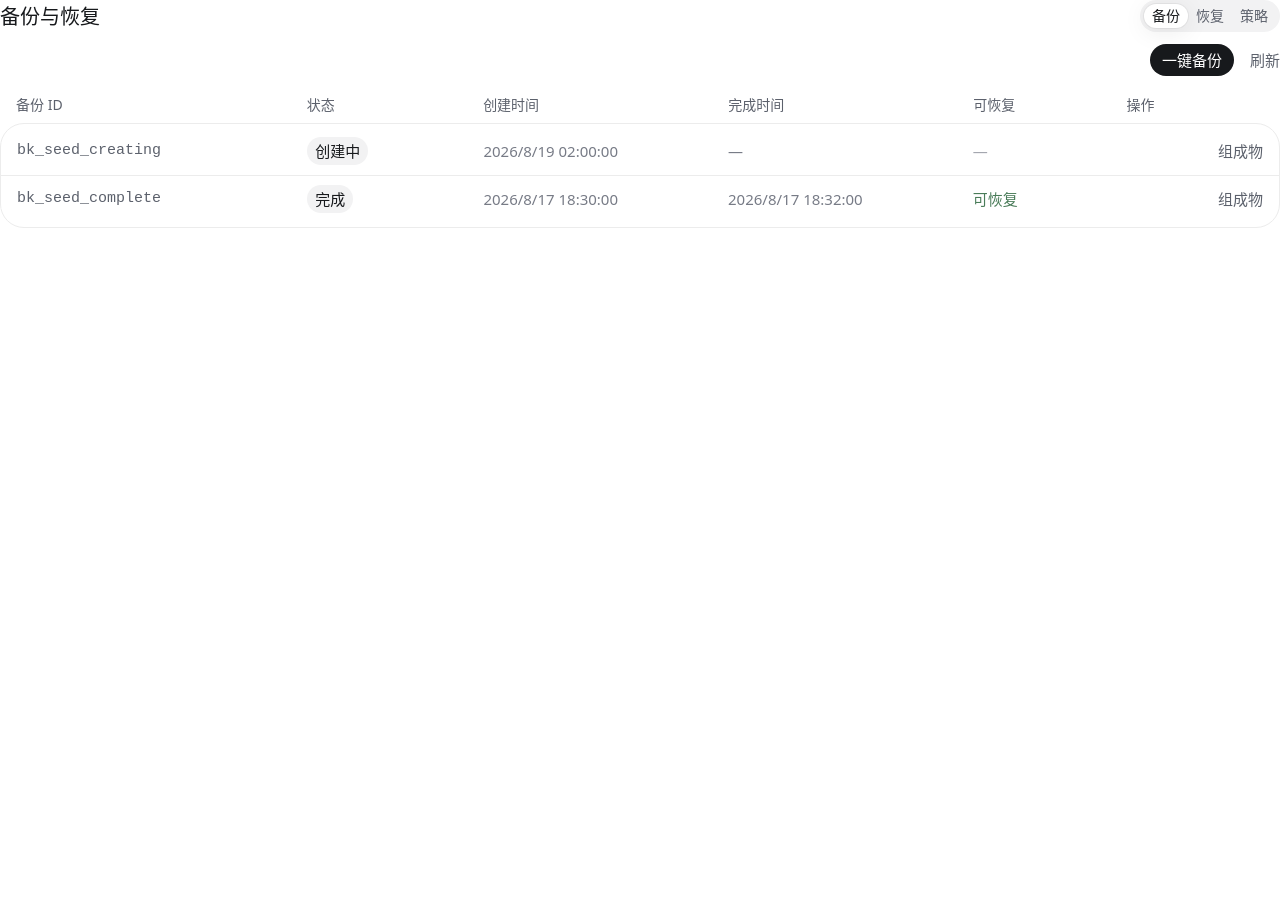
Test: 「恢复」分段（规格 §9：危险确认 / repair retry） › 一键恢复：来源选择 → 危险确认展示备份 ID / 维护影响 / 当前状态 → 受理轻提示 + 记录行
The width and height of the screenshot is (1280, 900).
Click the radio button labelled "恢复": (1210, 16) [1188,6,1232,25]
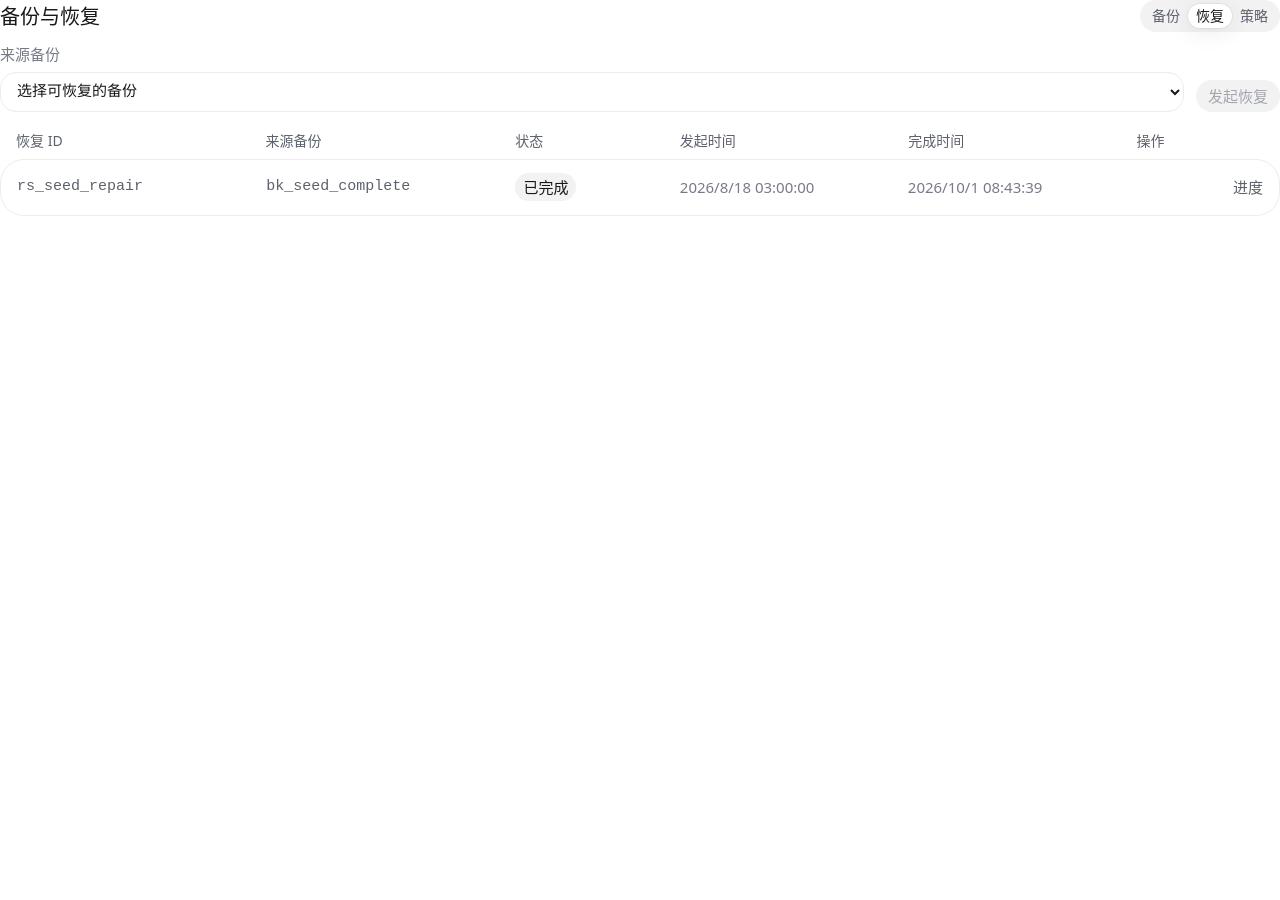
Select "bk_seed_complete · 2026/8/17 18:30:00" in the dropdown labelled "来源备份": (592, 92) [0,72,1184,112]
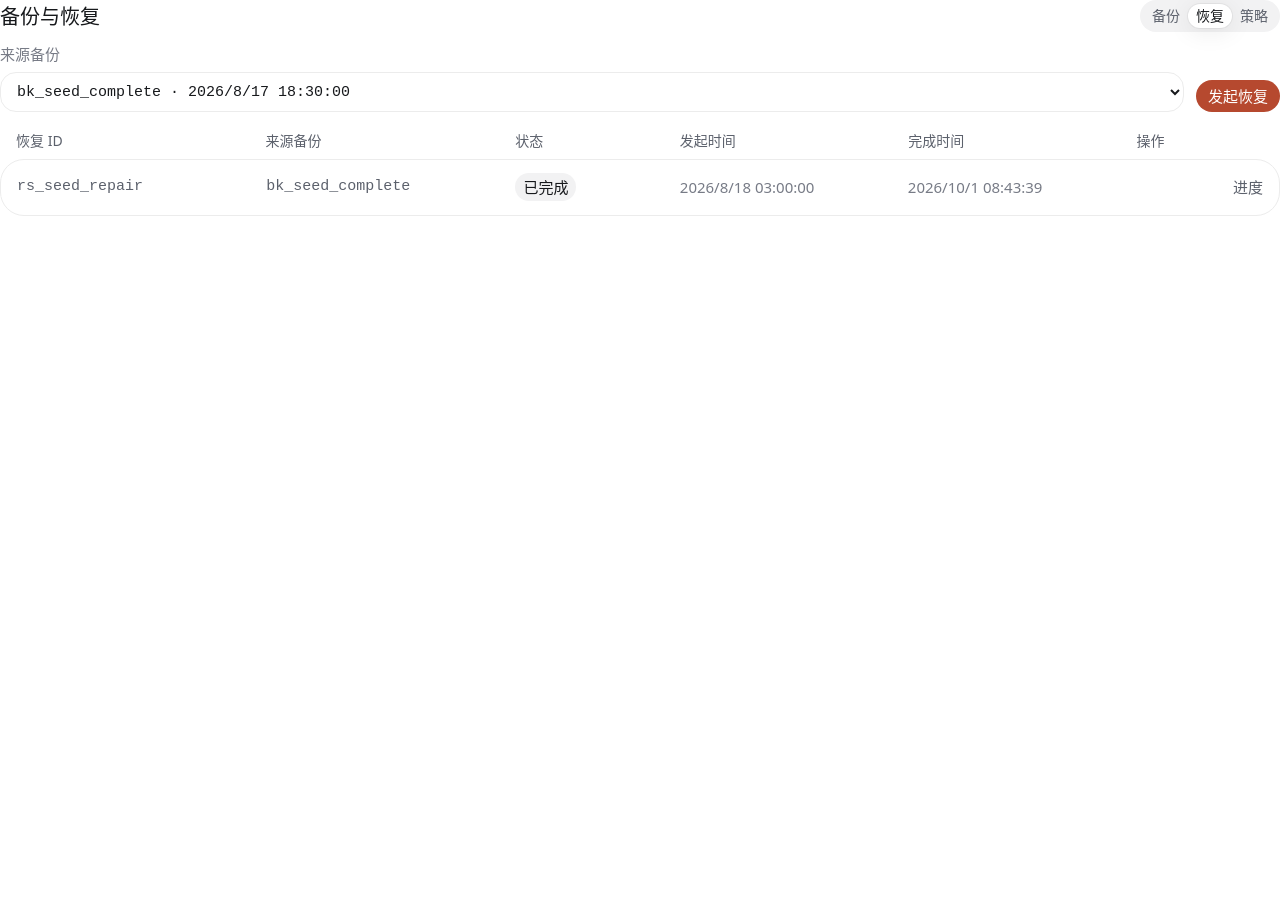
Click the button "发起恢复": (1238, 96) [1196,80,1279,112]
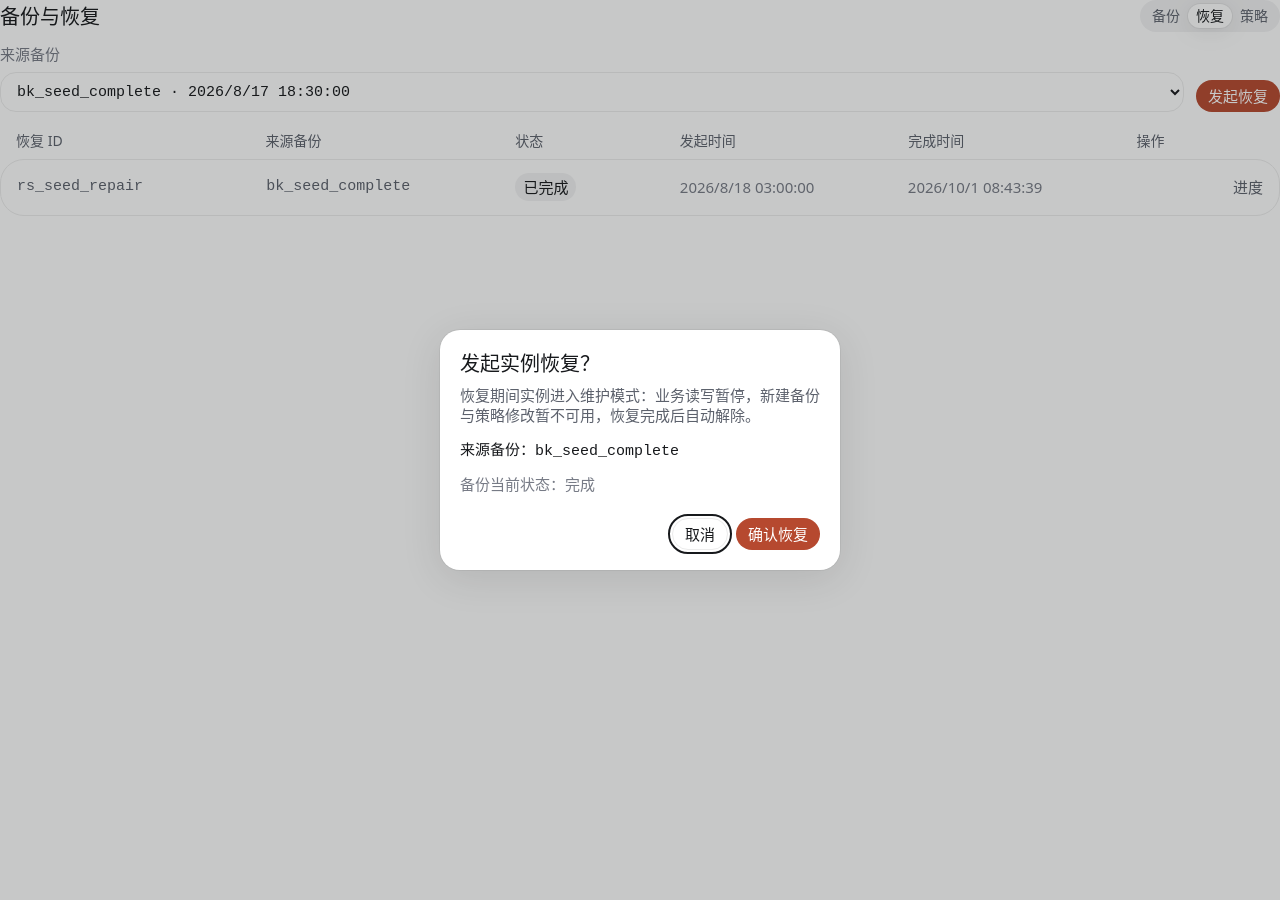
Check: the text "恢复期间实例进入维护模式：业务读写暂停，新建备份与策略修改暂不可用，恢复完成后自动解除。" is shown, box [460,385,820,426]
Click the button "确认恢复": (778, 534) [736,518,820,550]
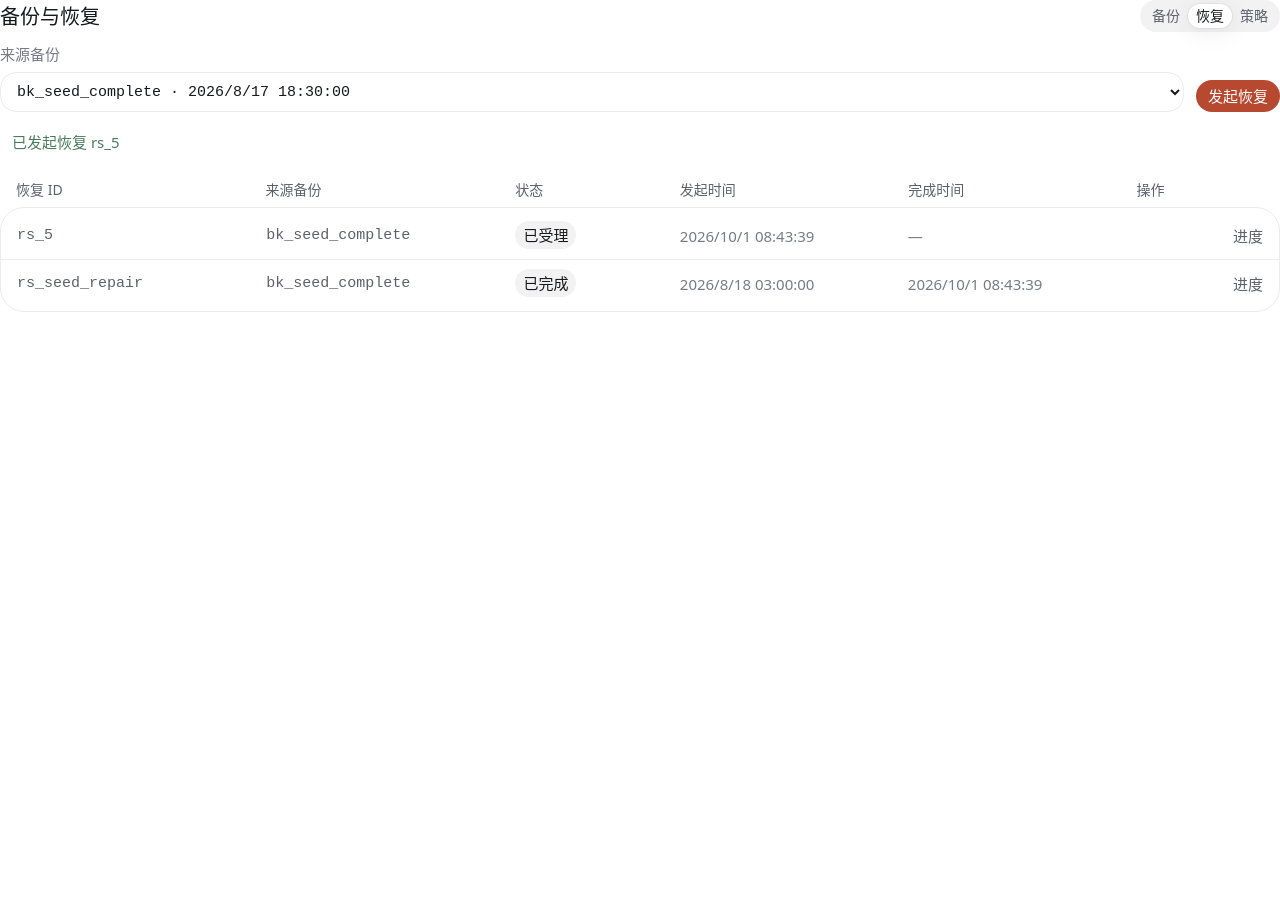
Check: the heading "发起实例恢复？" is gone
